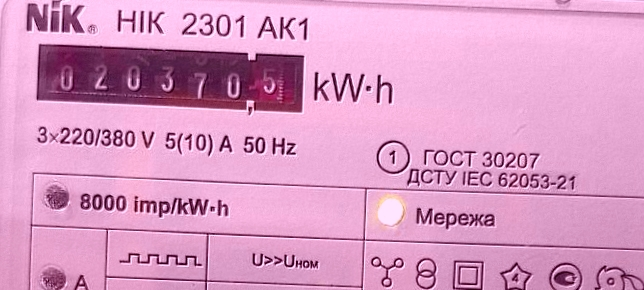0: (224, 71, 244, 101), (58, 62, 76, 92), (126, 63, 142, 91)
2: (92, 61, 111, 93)
3: (159, 63, 176, 94)
5: (261, 65, 280, 97)
7: (191, 70, 208, 101)
screen: (29, 37, 314, 123)
